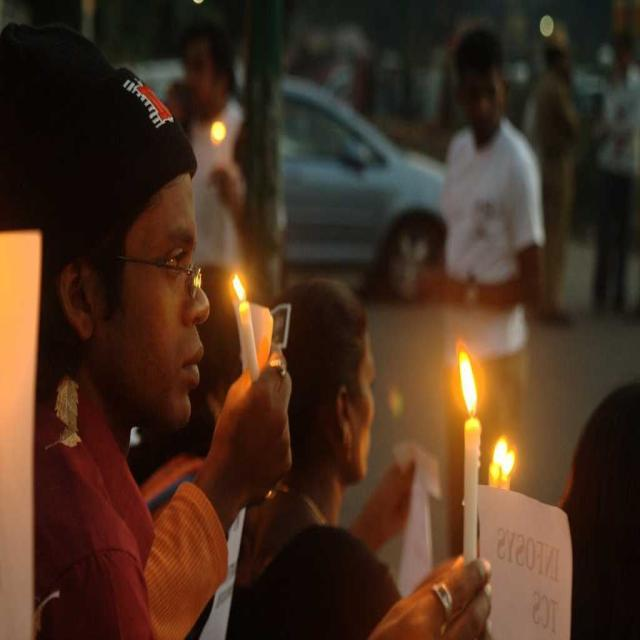Fire: (456, 348, 484, 415), (490, 432, 520, 474), (230, 271, 246, 300)
